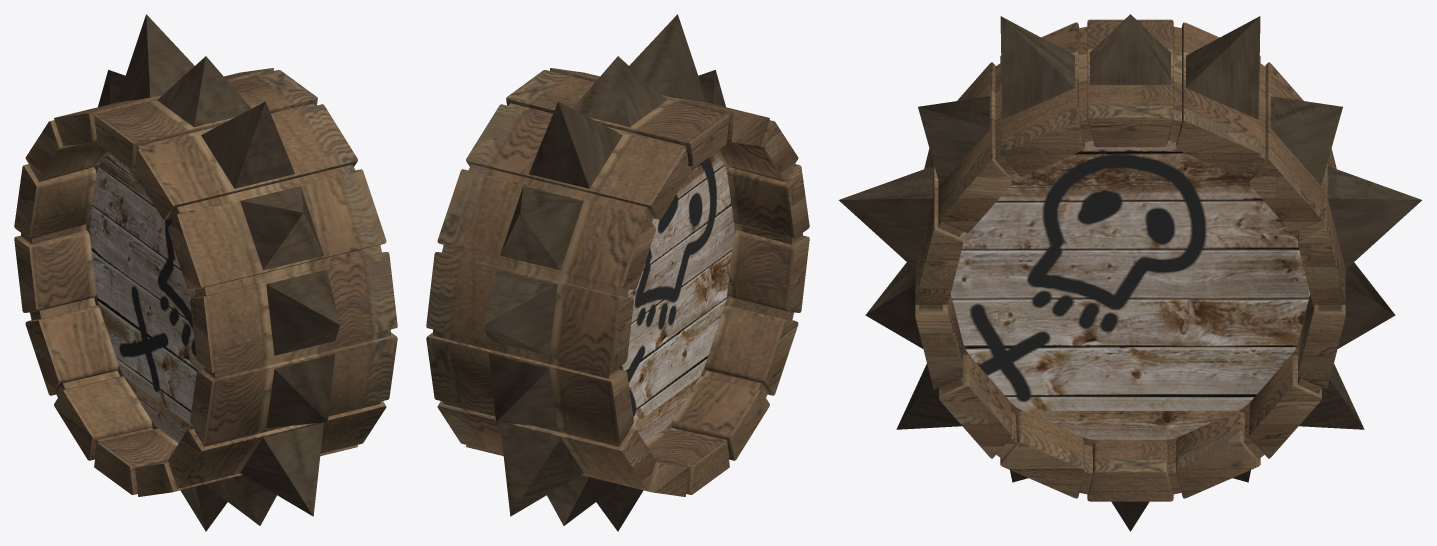
File: wooden_obstacle_with_spikes.glb
3 renders of one model, left to right at view 1: azimuth 30°, elevation 25°; view 2: azimuth 150°, elevation 25°; view 3: azimuth 270°, elevation 25°, orthographic. The views are drawn at different scales.
Visible parts, largest first — view 1: obstacle-wood_wooden-obstacle_0, obstacle-wood_shook-obstacel_0, obstacle-wood_tetdemort_0; view 2: obstacle-wood_wooden-obstacle_0, obstacle-wood_shook-obstacel_0, obstacle-wood_tetdemort_0; view 3: obstacle-wood_tetdemort_0, obstacle-wood_wooden-obstacle_0, obstacle-wood_shook-obstacel_0.
Boxes of the visible parts, x1,y1,x2,y2 form: obstacle-wood_wooden-obstacle_0: (14, 68, 397, 496); obstacle-wood_shook-obstacel_0: (98, 14, 339, 531); obstacle-wood_tetdemort_0: (89, 152, 204, 443); obstacle-wood_wooden-obstacle_0: (426, 68, 809, 496); obstacle-wood_shook-obstacel_0: (484, 14, 725, 531); obstacle-wood_tetdemort_0: (619, 152, 734, 443); obstacle-wood_tetdemort_0: (950, 140, 1310, 439); obstacle-wood_wooden-obstacle_0: (915, 19, 1345, 501); obstacle-wood_shook-obstacel_0: (839, 14, 1421, 531).
Bounding box in the file's own units: 15.75 × 38.58 × 39.42.
3 materials, 3 textured.
